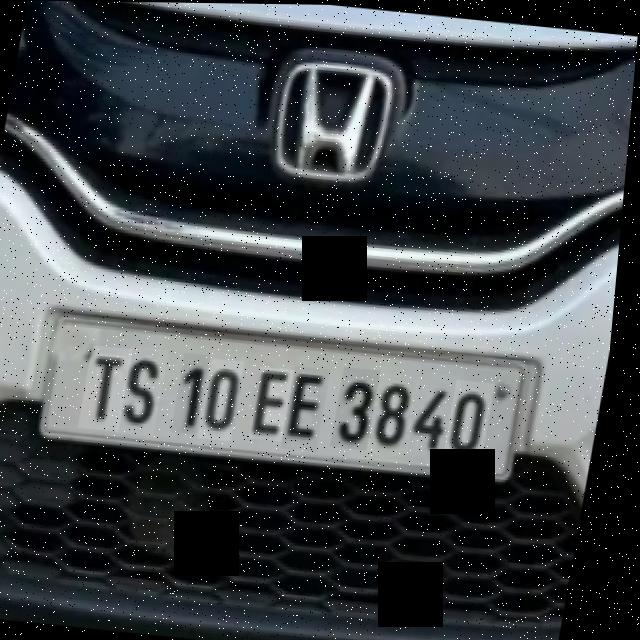0: (450, 378, 502, 461), (205, 357, 251, 440)
1: (178, 351, 217, 434)
3: (337, 365, 387, 449)
4: (412, 370, 468, 457)
8: (374, 371, 427, 455)
E: (289, 364, 338, 451), (255, 365, 301, 440)
S: (123, 345, 175, 436)
T: (86, 344, 139, 431)
